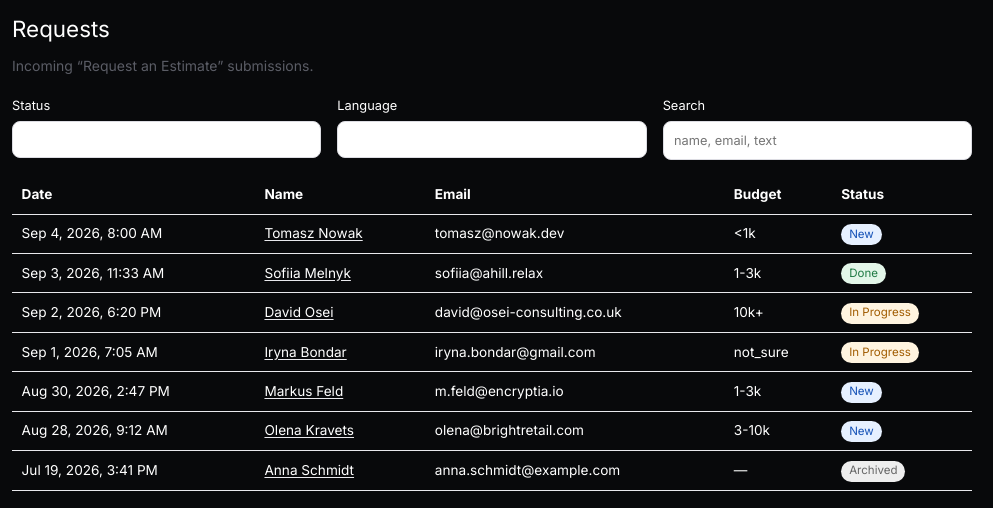
RequestsPage › filters by free text (name/email/message)
Expected: the button "Olena Kravets" is shown, left=264, top=420, right=416, bottom=442
In the field labelled "Search": (817, 141) left=663, top=121, right=972, bottom=160, type "encryptia"
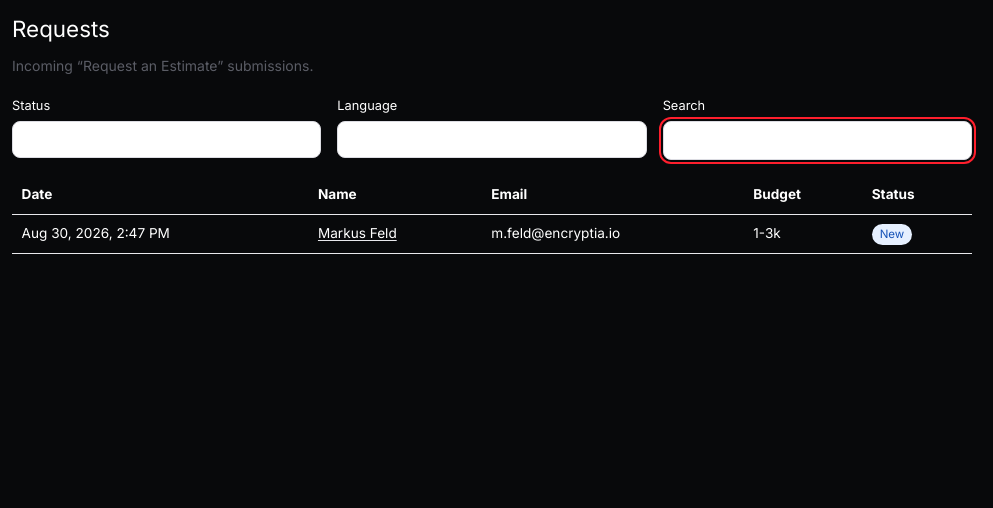
Expected: the button "Markus Feld" is shown, left=318, top=223, right=472, bottom=244
Expected: the button "Olena Kravets" is gone
